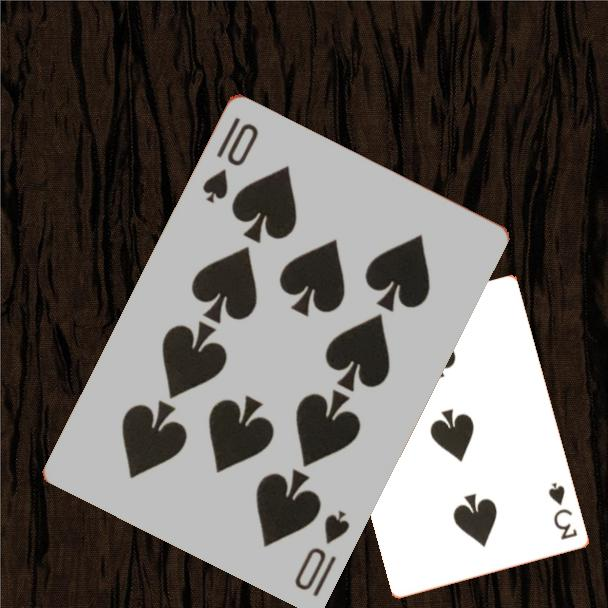s03: (545, 479, 581, 543)
s10: (198, 113, 262, 206), (290, 506, 353, 599)
